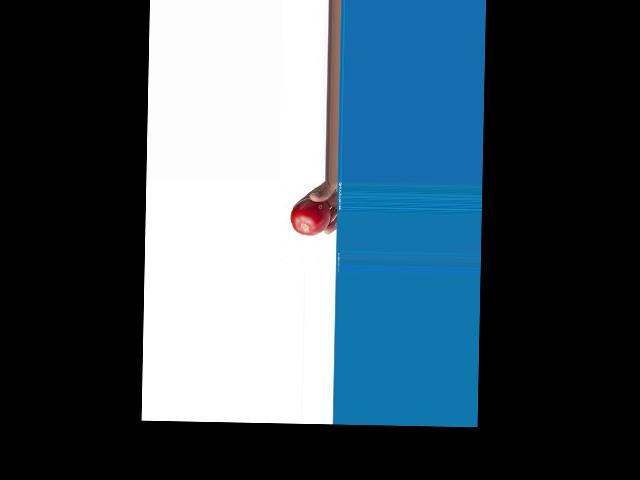tomato: (290, 197, 331, 236)
